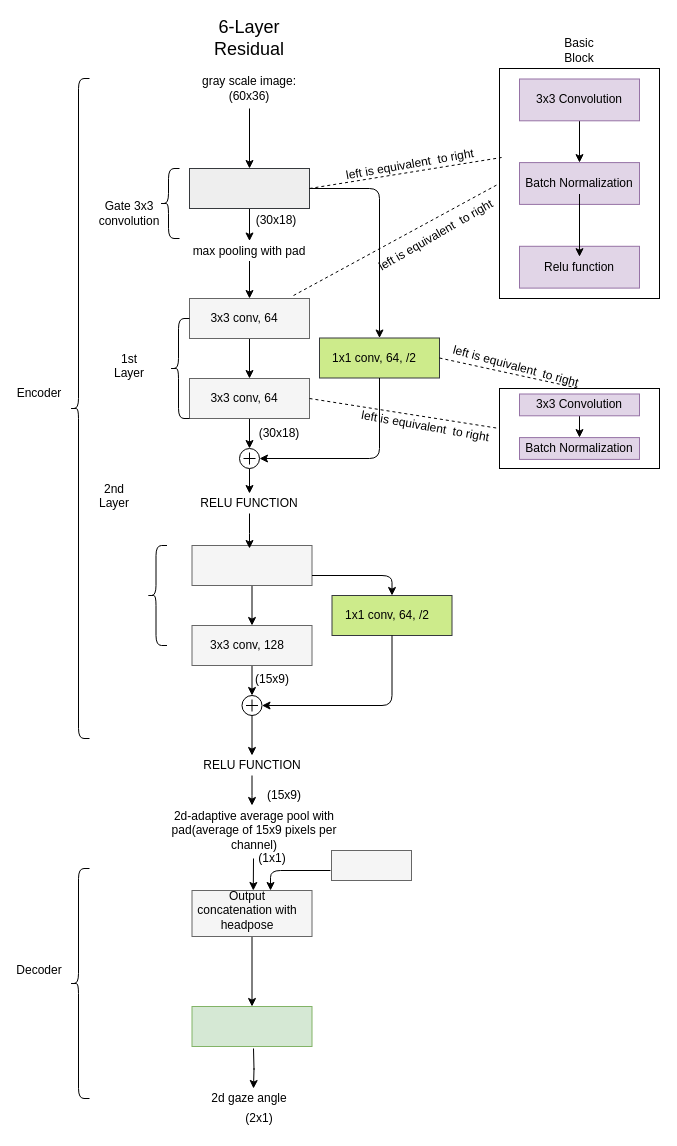
This 677x1146 diagram has some shape labels left out. The shapes that lost their labels are listed below. From the top down, each one's box as (x1, y1, x2, y2) in pixels, then its label:
(188, 168, 310, 208): 3x3 conv, 64, /2
(191, 544, 312, 586): 3x3 conv, 128, /2
(330, 850, 412, 880): 2d headpose information
(191, 1006, 312, 1046): Fully Connected (in=130,out=2)
